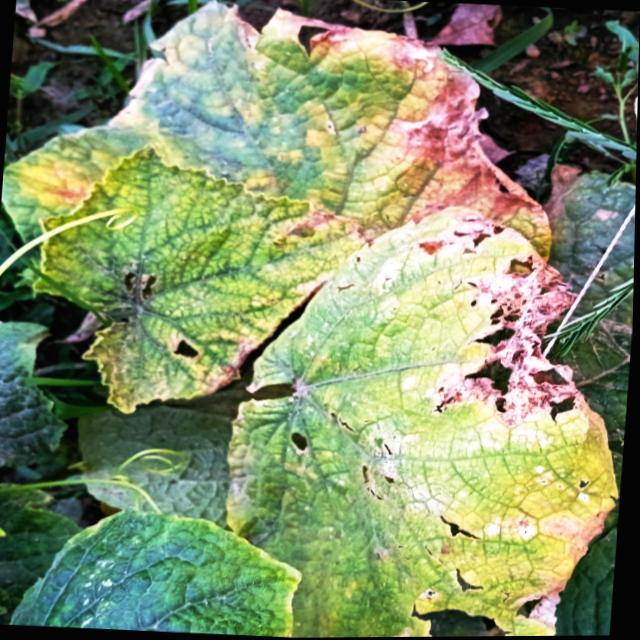Gummy-Stem-Blight: (284, 7, 550, 225), (527, 509, 607, 628)
